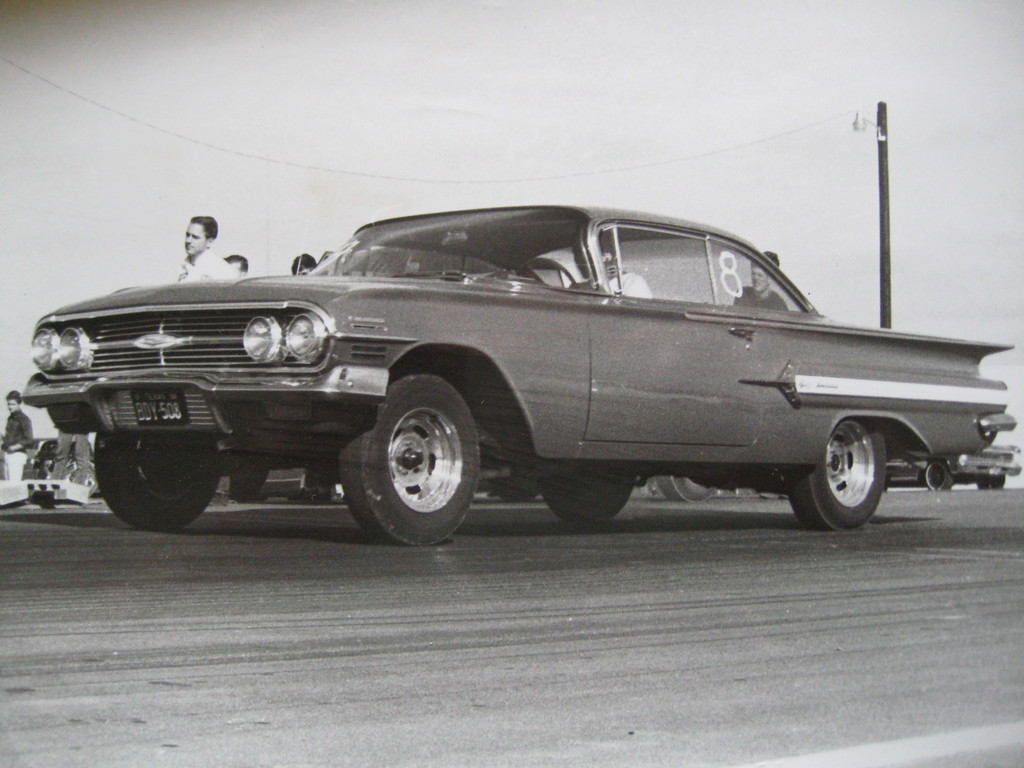Car: (16, 202, 1018, 549), (885, 439, 1018, 492)
